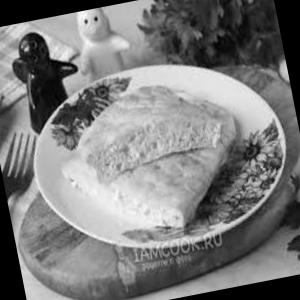omelet: (55, 63, 260, 238)
